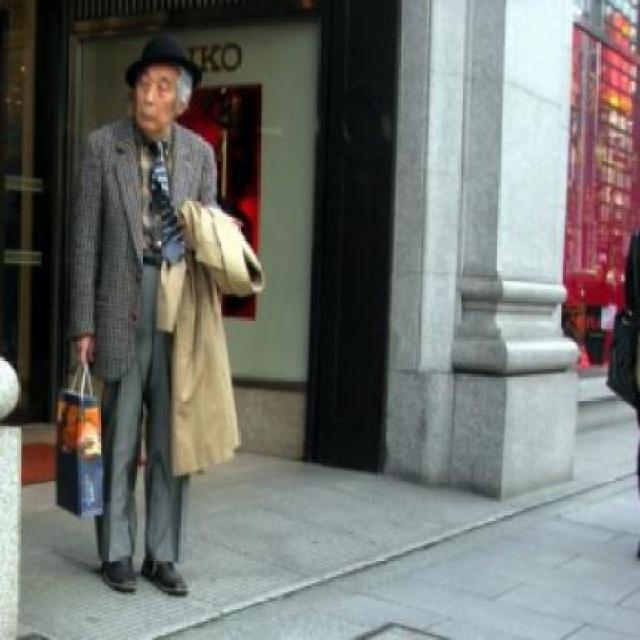-: (71, 35, 218, 592)
